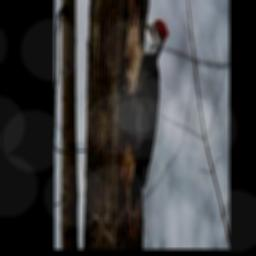Woodpecker: (123, 19, 168, 234)
